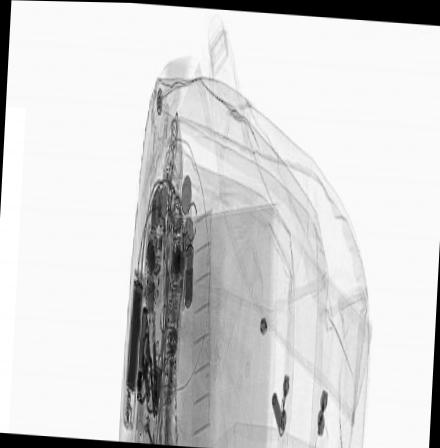Powerbank: (122, 265, 145, 433)
